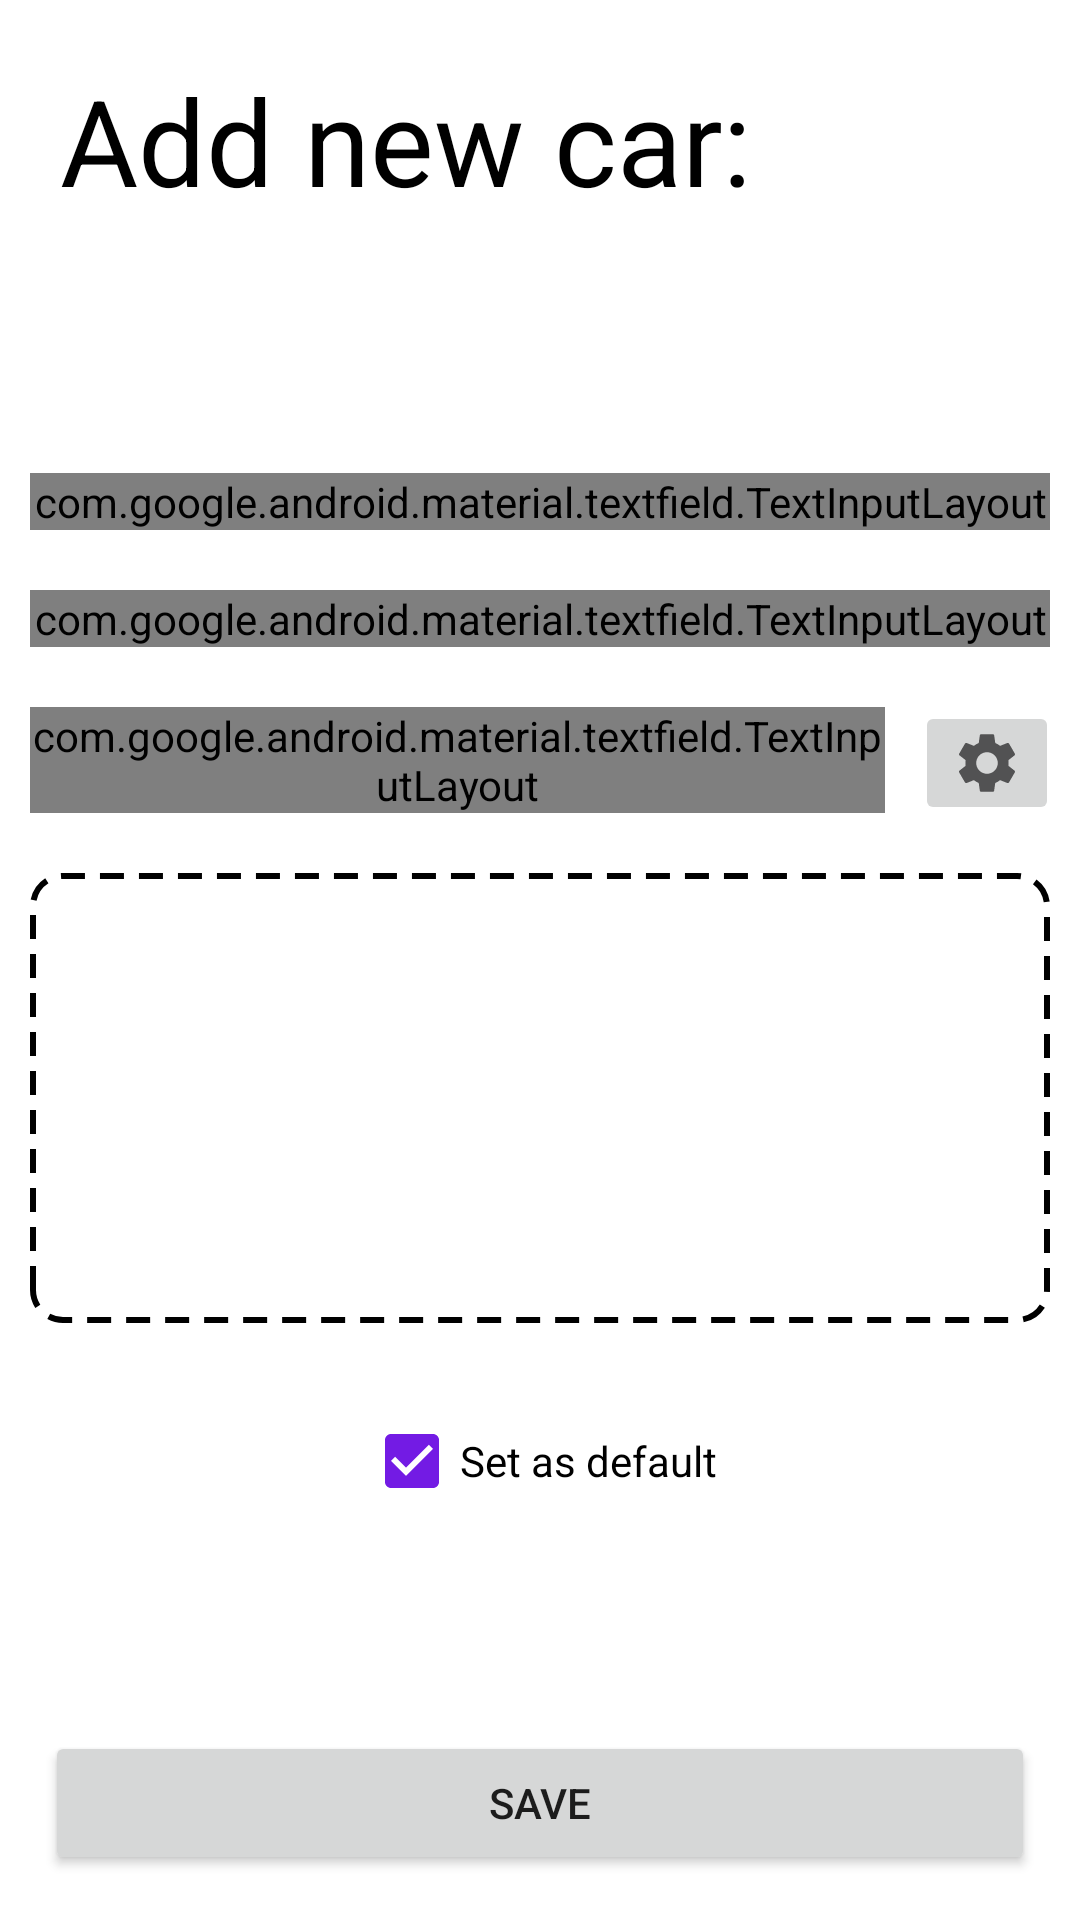

Screen size 1080w x 1920h. Icon name, then its center in pixels as [x,y]:
settings: [987,763]
